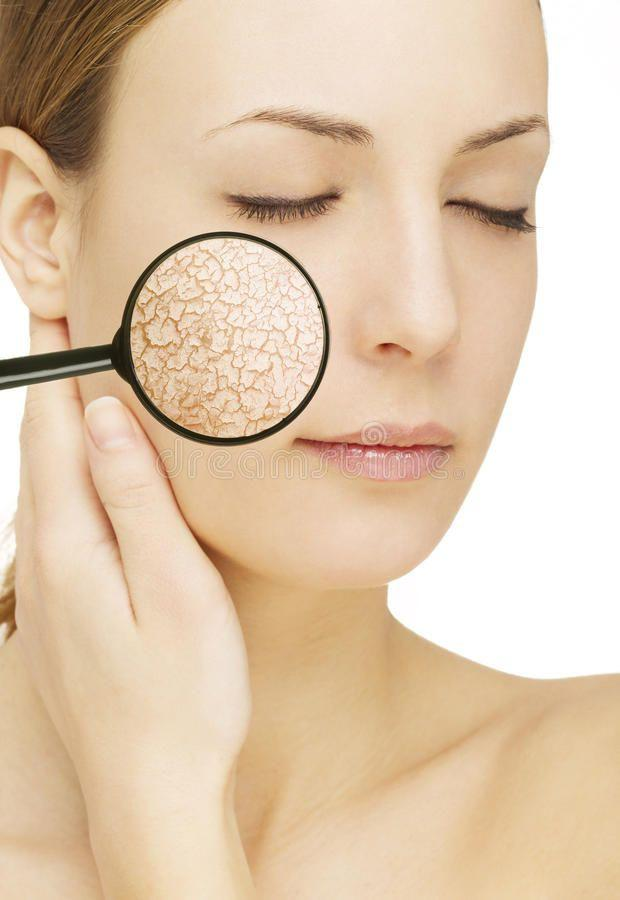Dry-Skin: (116, 228, 327, 440)
